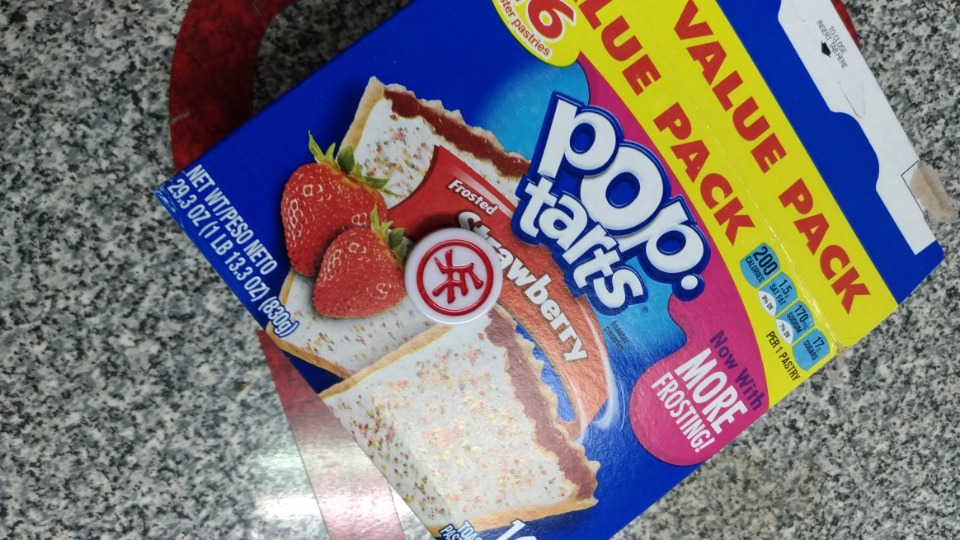r-pawn: (405, 220, 504, 330)
